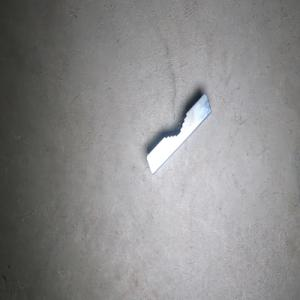ClampPart: (145, 91, 212, 175)
